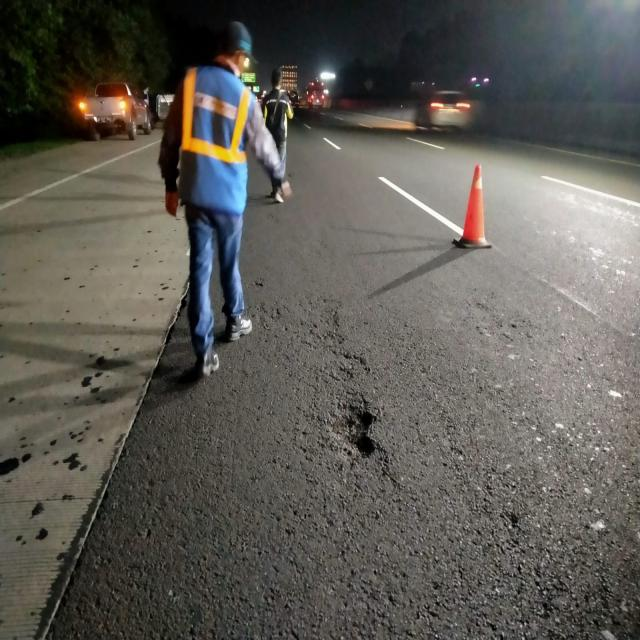Buraco: (324, 389, 384, 463)
